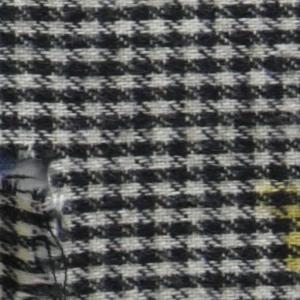Damage: (1, 146, 83, 300)
Stain: (257, 182, 300, 281)
